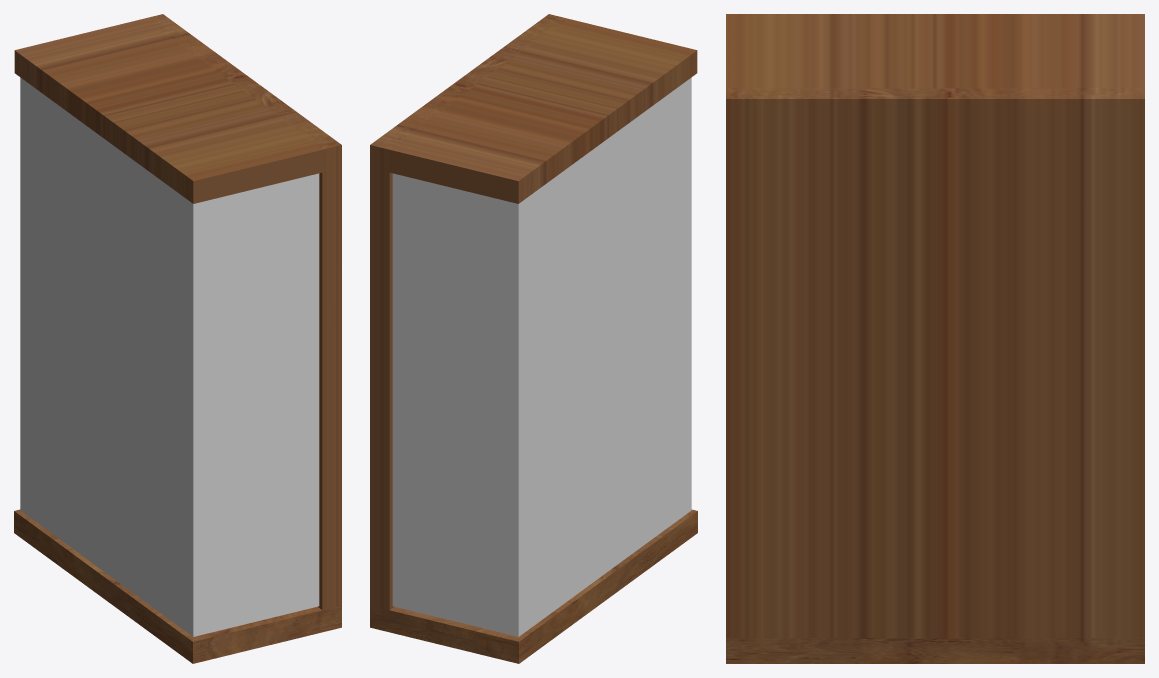
File: GabinetePared002.fbx
3 renders of one model, left to right at view 1: azimuth 30°, elevation 25°; view 2: azimuth 150°, elevation 25°; view 3: azimuth 270°, elevation 25°, orthographic. The views are drawn at different scales.
Visible parts, largest first — view 1: Cristal, Base; view 2: Cristal, Base; view 3: Base.
Part boxes in pixels (x1,y1,x2,y2): Cristal: (20,77,319,636); Base: (14,14,341,663); Cristal: (392,77,691,636); Base: (370,14,697,663); Base: (726,14,1144,663).
Size of the model in its own units: 525 by 1625 by 1092.
